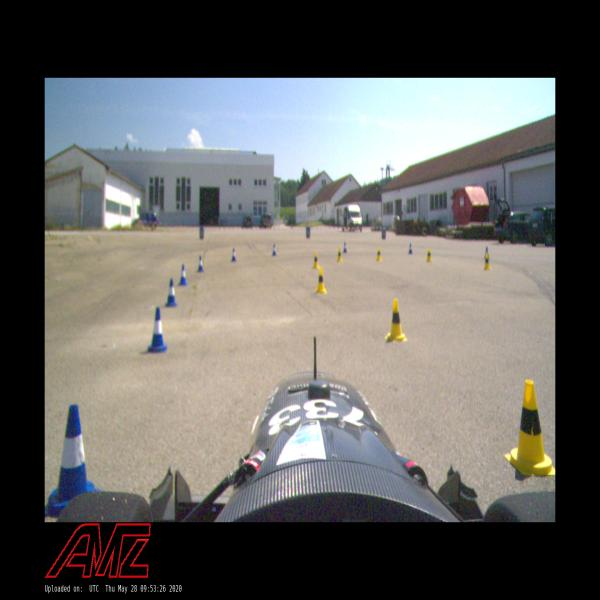blue_cone: (46, 404, 97, 520), (147, 308, 168, 354), (165, 279, 177, 307), (179, 265, 187, 286), (198, 255, 204, 273), (484, 247, 490, 259), (231, 248, 236, 262), (272, 243, 277, 257), (342, 241, 347, 253), (408, 244, 413, 254)
yellow_cone: (505, 379, 555, 476), (385, 299, 407, 342), (315, 268, 327, 294), (312, 252, 320, 270), (483, 253, 491, 271), (336, 247, 343, 262), (376, 247, 382, 261), (426, 248, 432, 262)
